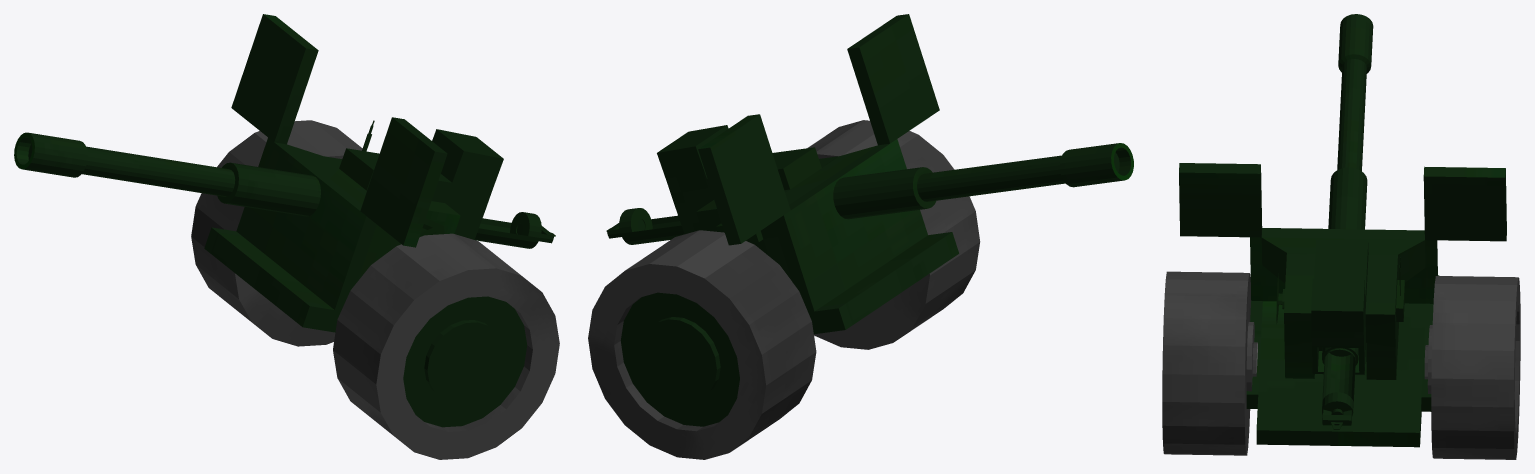
The model's file is artillery.glb.
3 renders of one model, left to right at view 1: azimuth 30°, elevation 25°; view 2: azimuth 150°, elevation 25°; view 3: azimuth 270°, elevation 25°, orthographic. The views are drawn at different scales.
Visible parts, largest first — view 1: artilharia.001; view 2: artilharia.001; view 3: artilharia.001.
Boxes of the visible parts, left/top/right/bottom form: artilharia.001: left=14, top=14, right=559, bottom=459; artilharia.001: left=588, top=14, right=1133, bottom=459; artilharia.001: left=1162, top=14, right=1520, bottom=459.
Bounding box in the file's own units: 4.87 × 2.89 × 3.25.
Materials: 3 (3 with a texture image).
